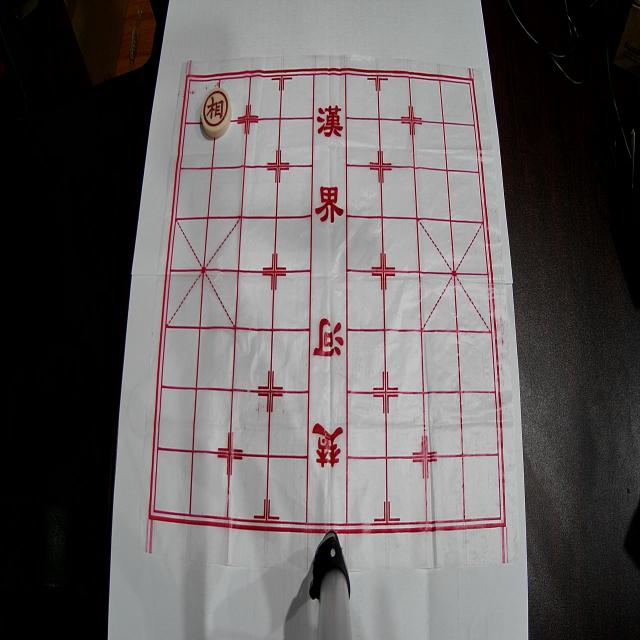red-elephant: (201, 88, 232, 138)
